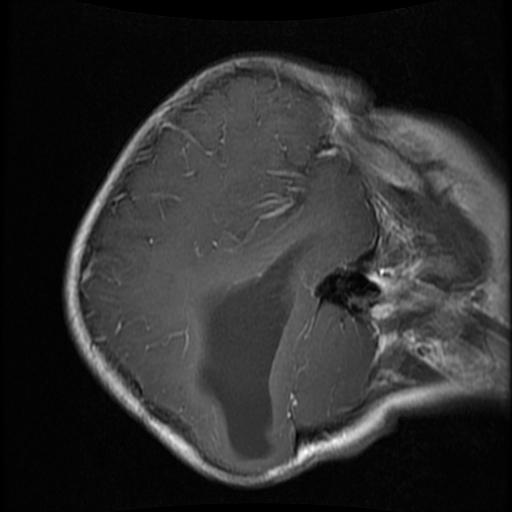glioma: (191, 235, 317, 461)
